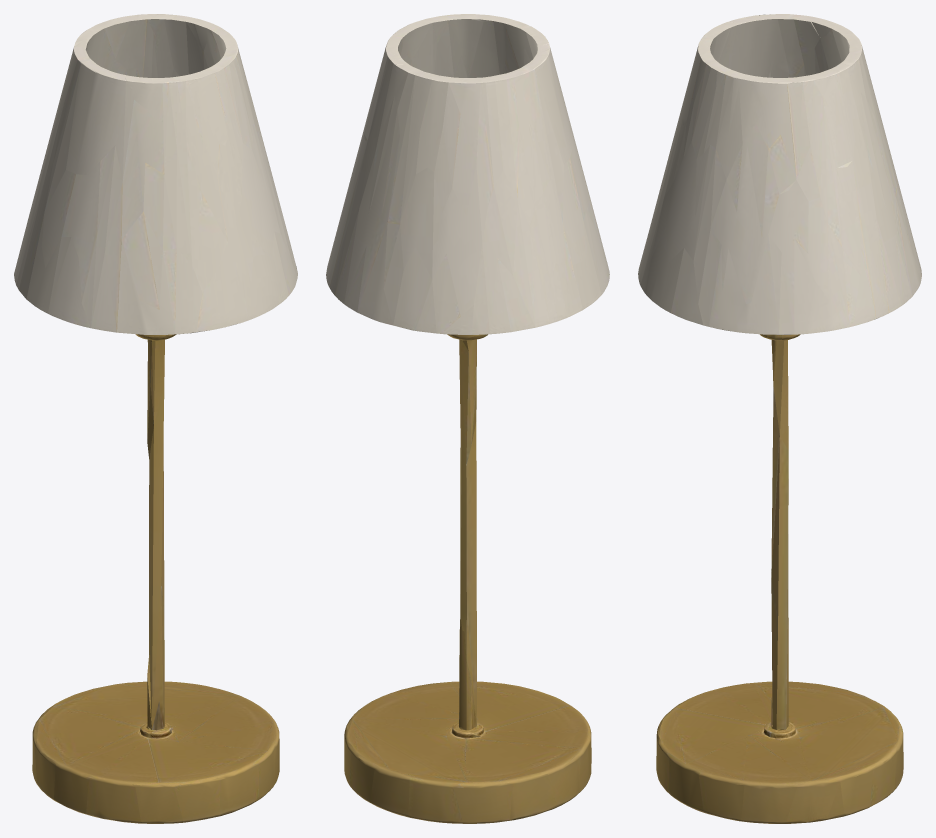
Rendered from lamp.glb.
3 views of the same model, side by side, from view 1: azimuth 30°, elevation 25°; view 2: azimuth 150°, elevation 25°; view 3: azimuth 270°, elevation 25° (orthographic).
Parts seen in each view (by area): view 1: Mesh_0; view 2: Mesh_0; view 3: Mesh_0.
Boxes of the visible parts, left/top/right/bottom form: Mesh_0: left=14, top=14, right=297, bottom=823; Mesh_0: left=326, top=14, right=609, bottom=823; Mesh_0: left=638, top=14, right=921, bottom=823.
Size of the model in its own units: 0.6735 by 1.9 by 0.674.
1 material, 1 textured.
